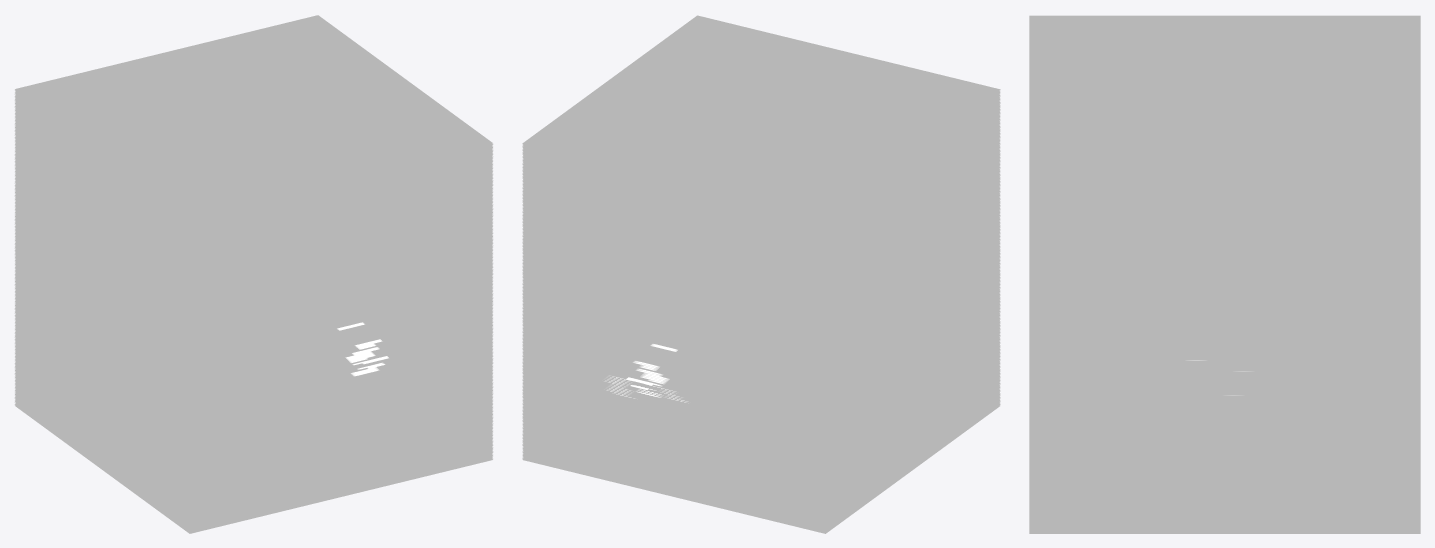
The model's file is nube.glb.
The picture shows the model from 3 angles, left to right: view 1: azimuth 30°, elevation 25°; view 2: azimuth 150°, elevation 25°; view 3: azimuth 270°, elevation 25°; orthographic projection. The views are drawn at different scales.
Parts seen in each view (by area): view 1: Object_4; view 2: Object_4; view 3: Object_4.
Part boxes in pixels (bbox=[...]): Object_4: bbox=[14, 15, 493, 533]; Object_4: bbox=[522, 15, 1000, 533]; Object_4: bbox=[1029, 15, 1420, 533].
Bounding box in the file's own units: 1 × 1 × 1.
Materials: 3 (3 with a texture image).
